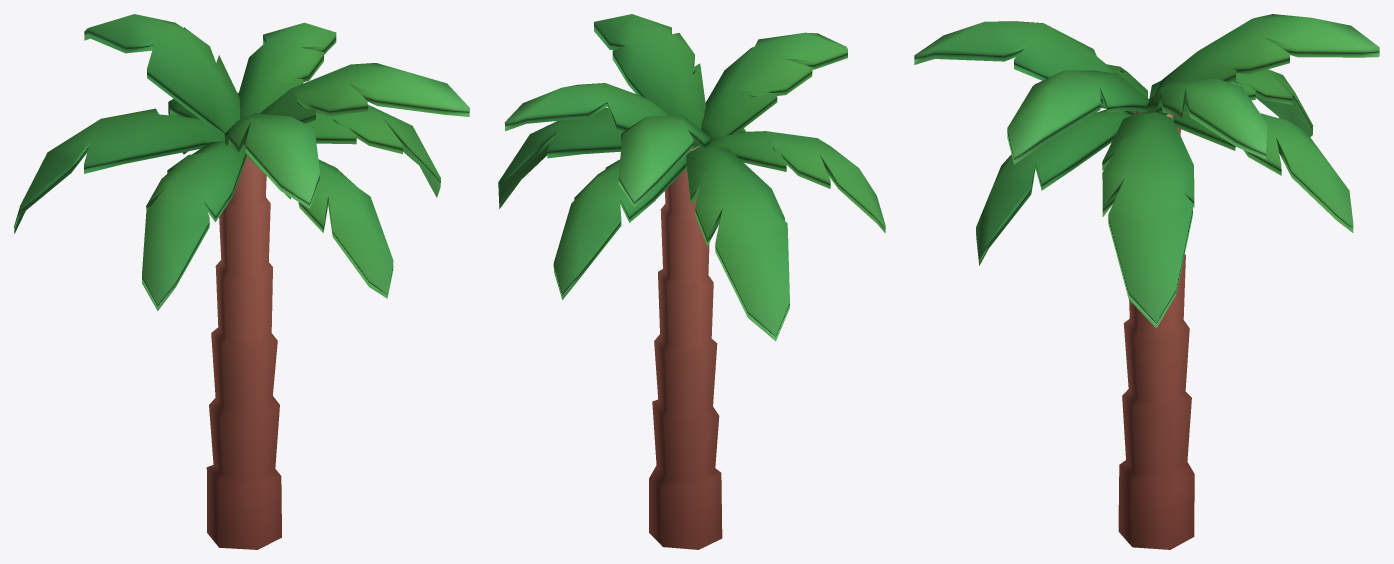
Rendered from Furniture_Vegetation_2.fbx.
The picture shows the model from 3 angles, left to right: view 1: azimuth 30°, elevation 25°; view 2: azimuth 150°, elevation 25°; view 3: azimuth 270°, elevation 25°; orthographic projection. The views are drawn at different scales.
Visible parts, largest first — view 1: Furniture_Vegetation_2; view 2: Furniture_Vegetation_2; view 3: Furniture_Vegetation_2.
Part boxes in pixels (box(x1,y1,x2,y2)): Furniture_Vegetation_2: box(14, 14, 469, 549); Furniture_Vegetation_2: box(498, 14, 885, 549); Furniture_Vegetation_2: box(914, 14, 1379, 549).
Size of the model in its own units: 293 by 371 by 315.
